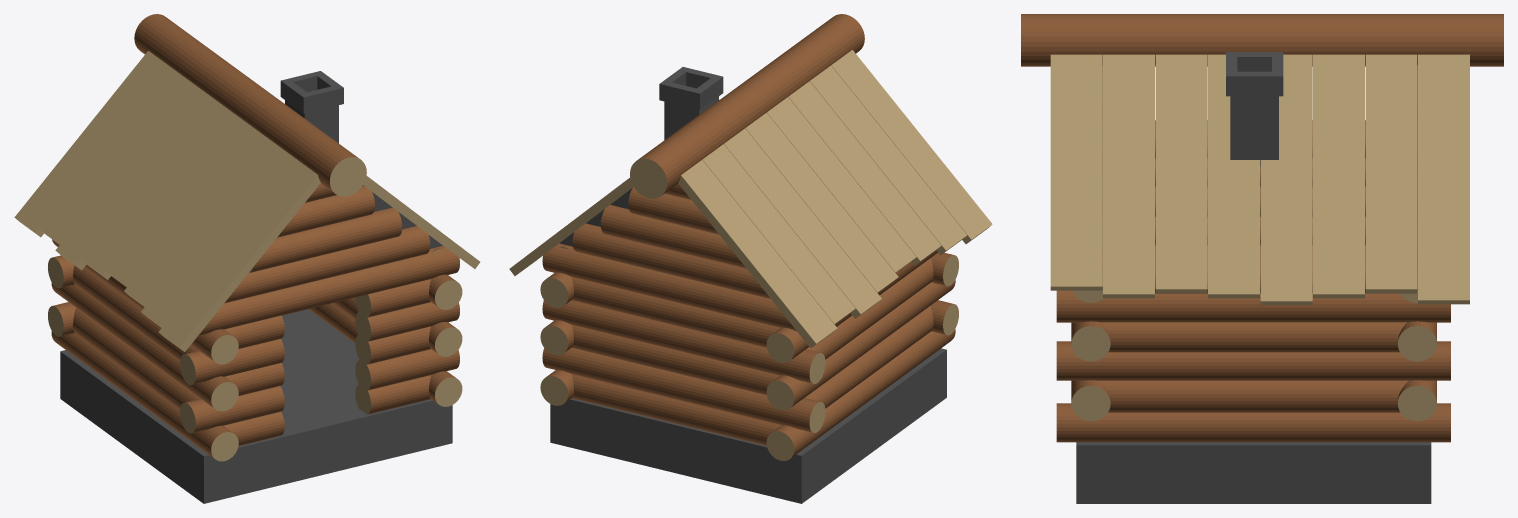
The model's file is domek .fbx.
3 renders of one model, left to right at view 1: azimuth 30°, elevation 25°; view 2: azimuth 150°, elevation 25°; view 3: azimuth 270°, elevation 25°, orthographic. The views are drawn at different scales.
Visible parts, largest first — view 1: Cube; view 2: Cube; view 3: Cube.
Part boxes in pixels (<box>): Cube: <box>14,14,480,503</box>; Cube: <box>509,14,992,503</box>; Cube: <box>1021,14,1503,503</box>.
Size of the model in its own units: 539 by 555 by 590.
